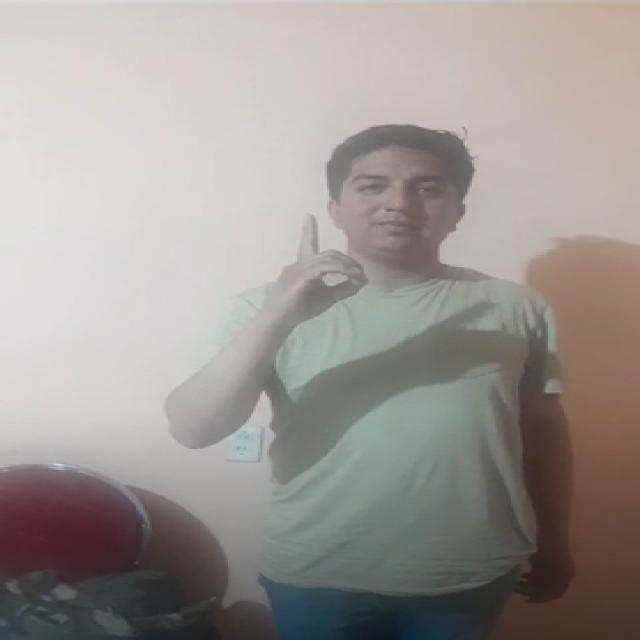D: (279, 214, 383, 334)
